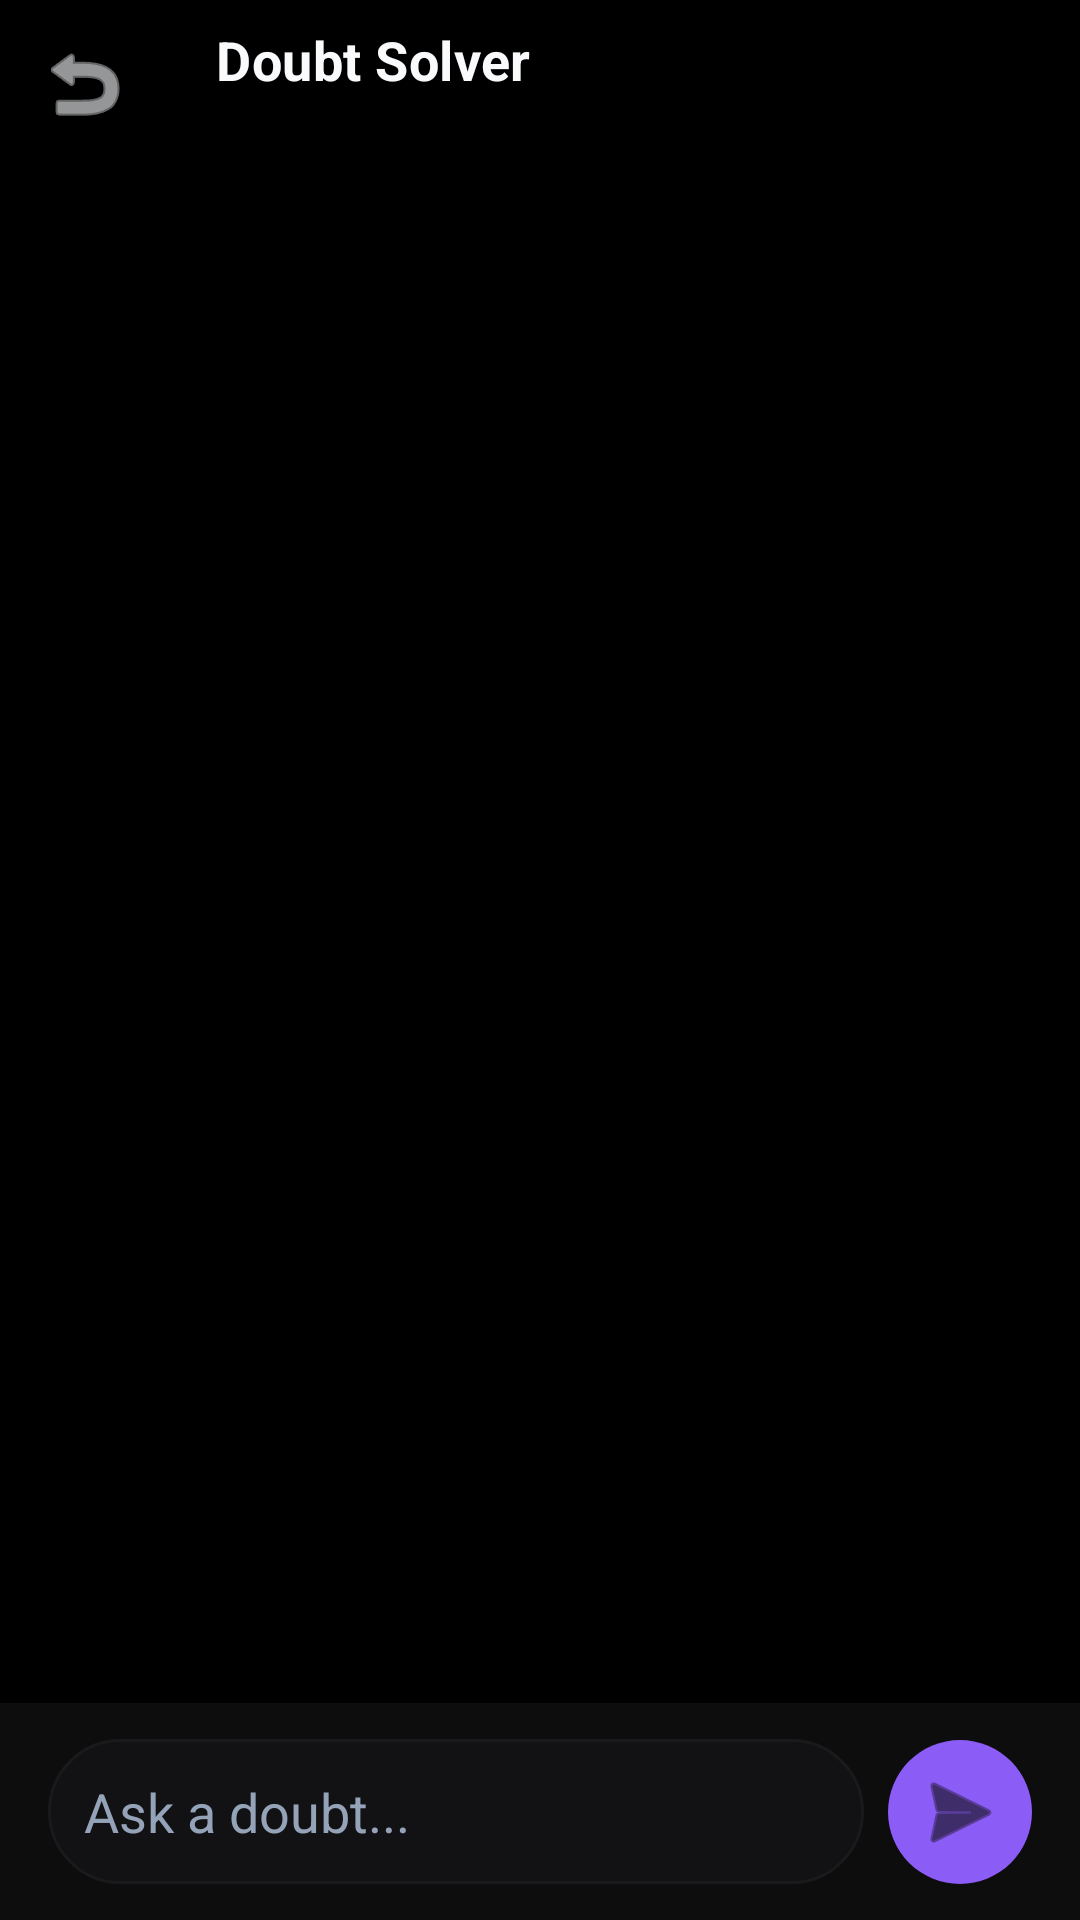

Icon click points for this 1080px×1920px phone screenshot, format [x,y]:
send: [960,1812]
